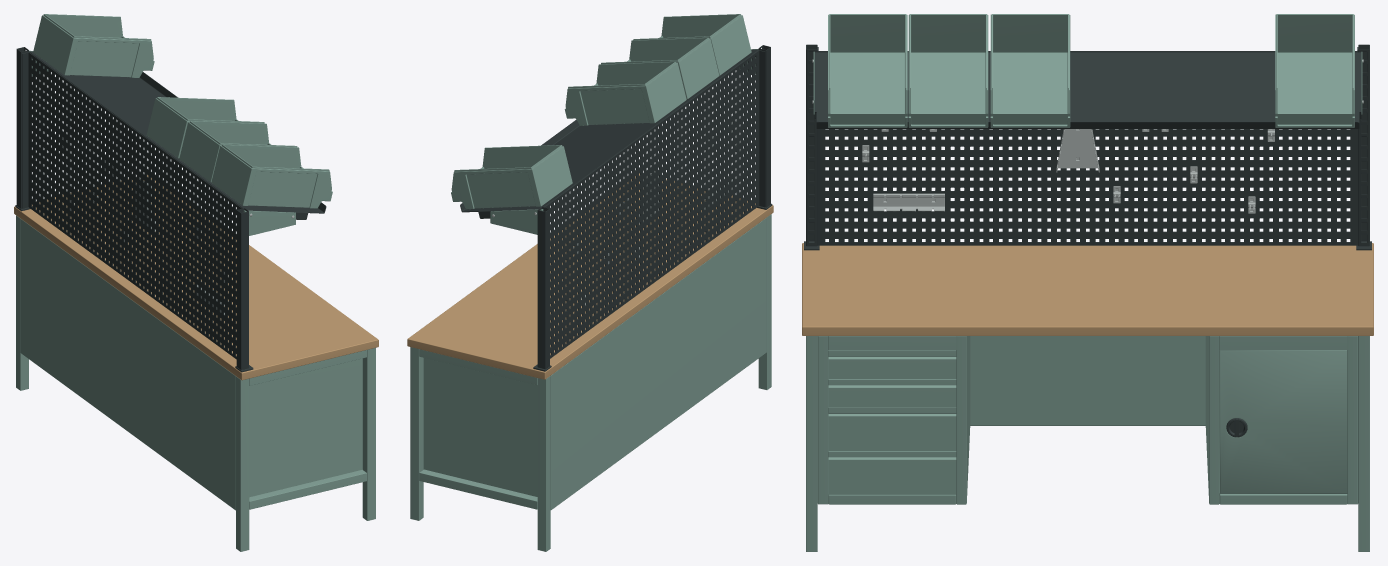
File: furniture_workbench_standard_e01.glb
3 views of the same model, side by side, from view 1: azimuth 30°, elevation 25°; view 2: azimuth 150°, elevation 25°; view 3: azimuth 270°, elevation 25° (orthographic). The views are drawn at different scales.
Parts seen in each view (by area): view 1: furniture_workbench_standard_e01; view 2: furniture_workbench_standard_e01; view 3: furniture_workbench_standard_e01.
Boxes of the visible parts, box(x1,y1,x2,y2) form: furniture_workbench_standard_e01: box(14, 14, 378, 551); furniture_workbench_standard_e01: box(407, 14, 773, 551); furniture_workbench_standard_e01: box(802, 14, 1373, 551).
Bounding box in the file's own units: 0.5331 × 1.38 × 1.53.
